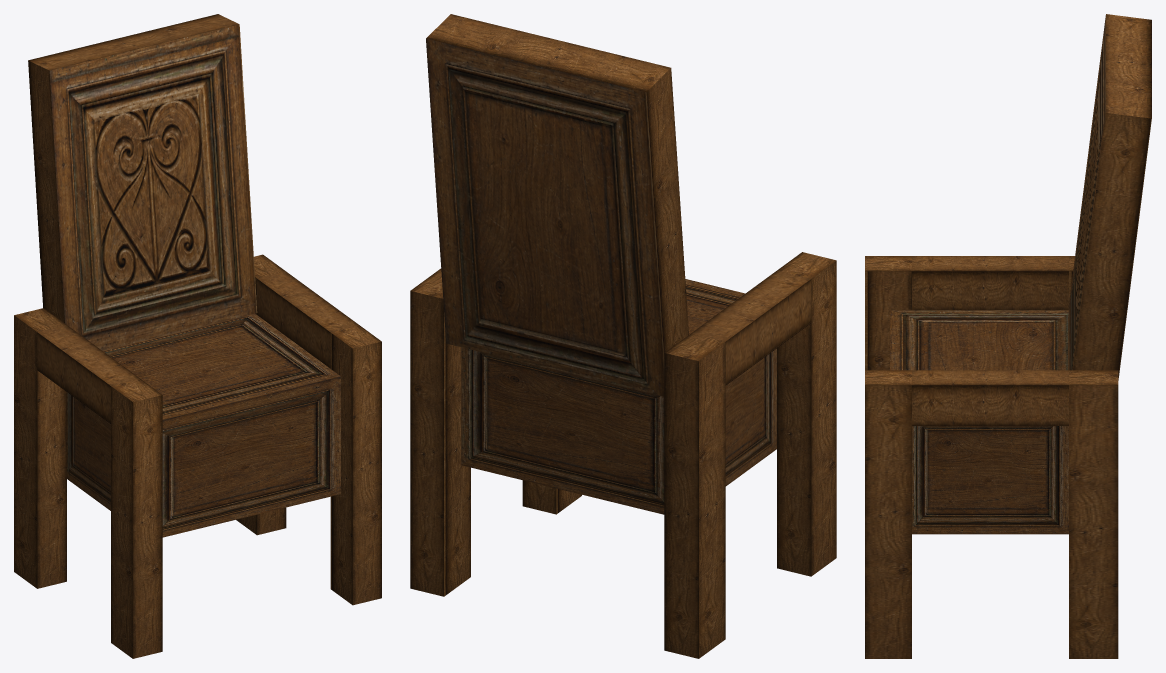
Rendered from mm9_deco_chair03.glb.
3 renders of one model, left to right at view 1: azimuth 30°, elevation 25°; view 2: azimuth 150°, elevation 25°; view 3: azimuth 270°, elevation 25°, orthographic. The views are drawn at different scales.
Parts seen in each view (by area): view 1: Chair03; view 2: Chair03; view 3: Chair03.
Part boxes in pixels (x1,y1,x2,y2): Chair03: (14, 14, 381, 658); Chair03: (410, 14, 836, 658); Chair03: (865, 14, 1151, 658).
Size of the model in its own units: 0.8766 by 1.68 by 0.821.
2 materials, 2 textured.
